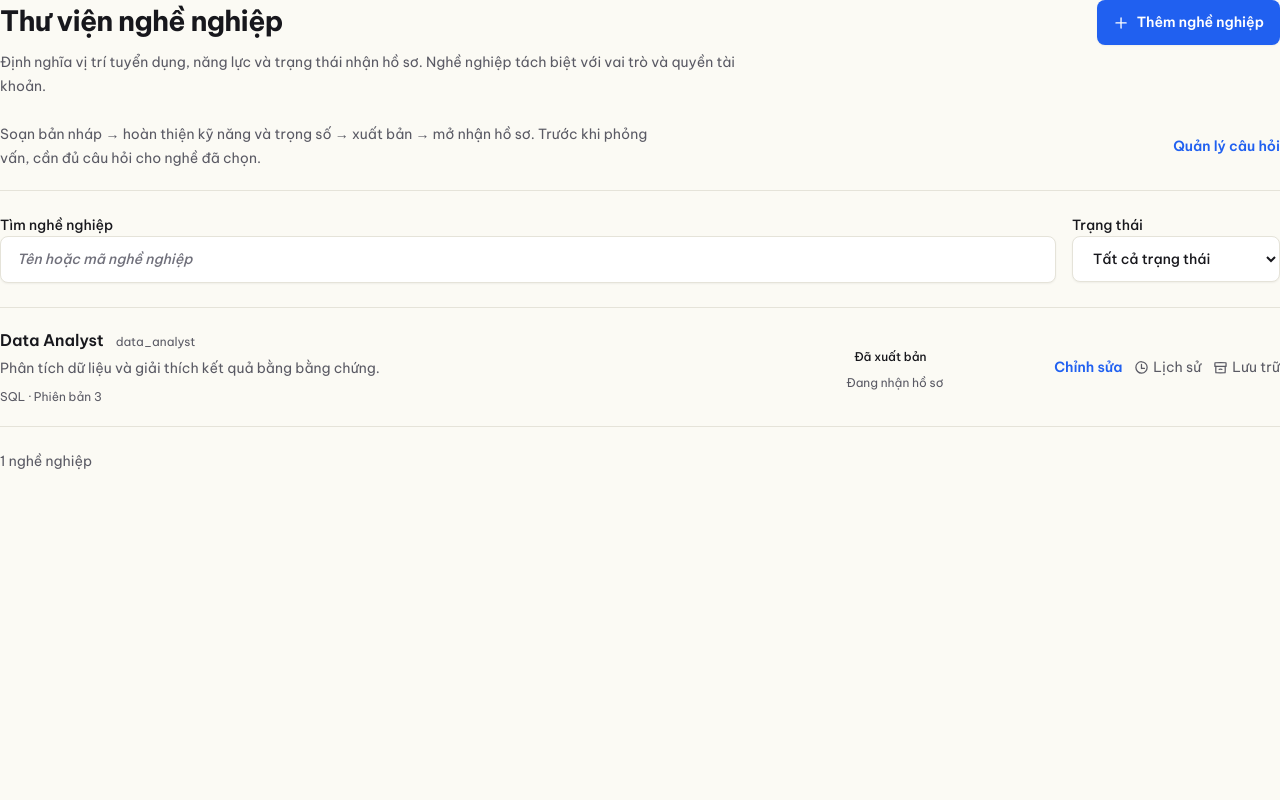
creates an extensible career as a draft without changing account roles
Expected: the heading "Data Analyst" is shown, [0, 328, 104, 352]
Click the button "Thêm nghề nghiệp". click: click(1188, 22)
box: [1097, 0, 1279, 45]
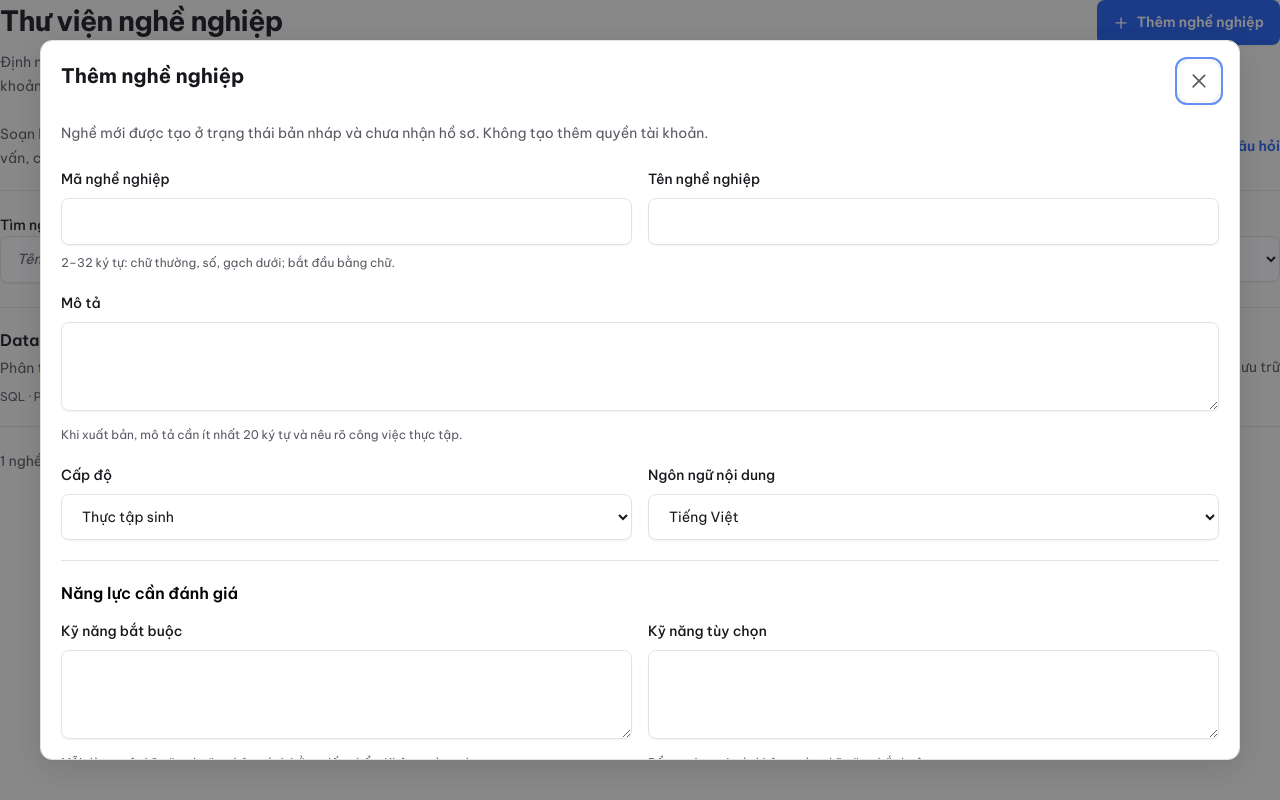
Type "mobile" into the field labelled "Mã nghề nghiệp". click: (346, 222)
box: [61, 198, 632, 245]
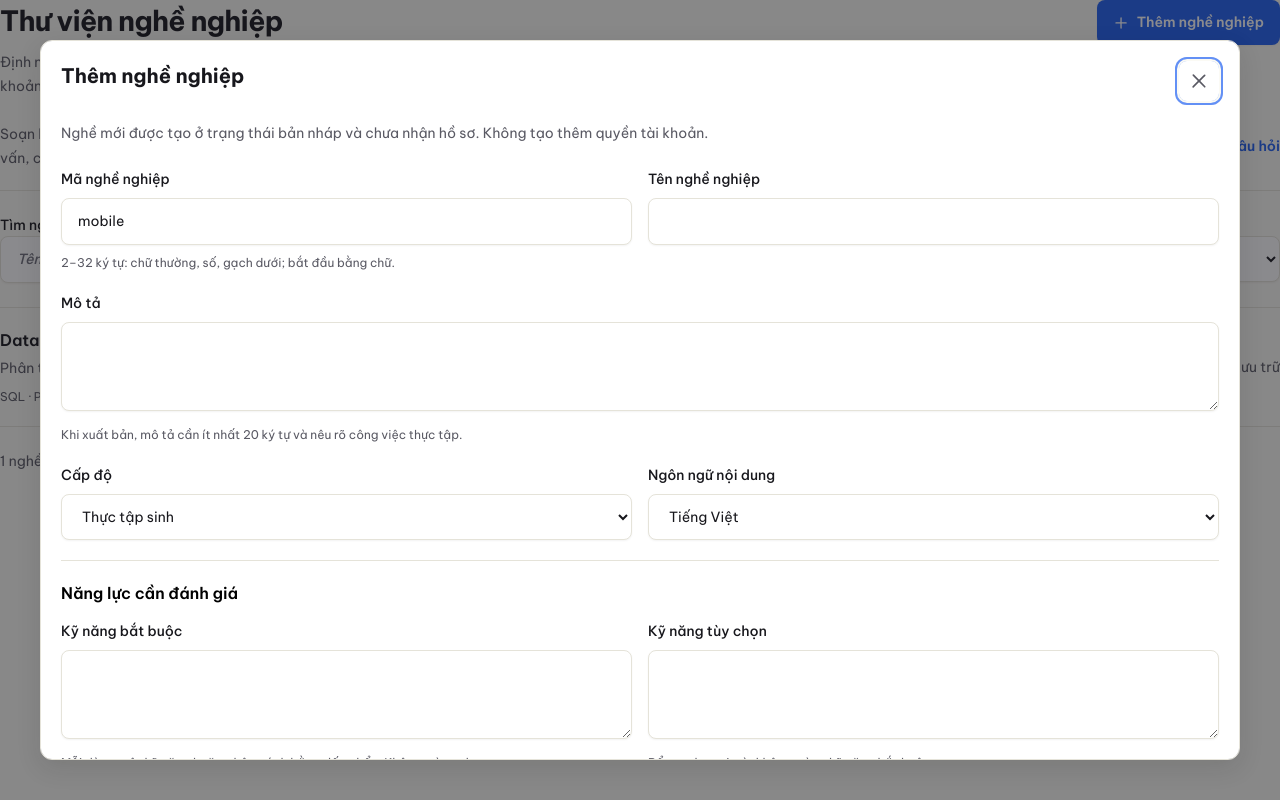
Type "Mobile Developer" into the field labelled "Tên nghề nghiệp". click: (934, 222)
box: [648, 198, 1219, 245]
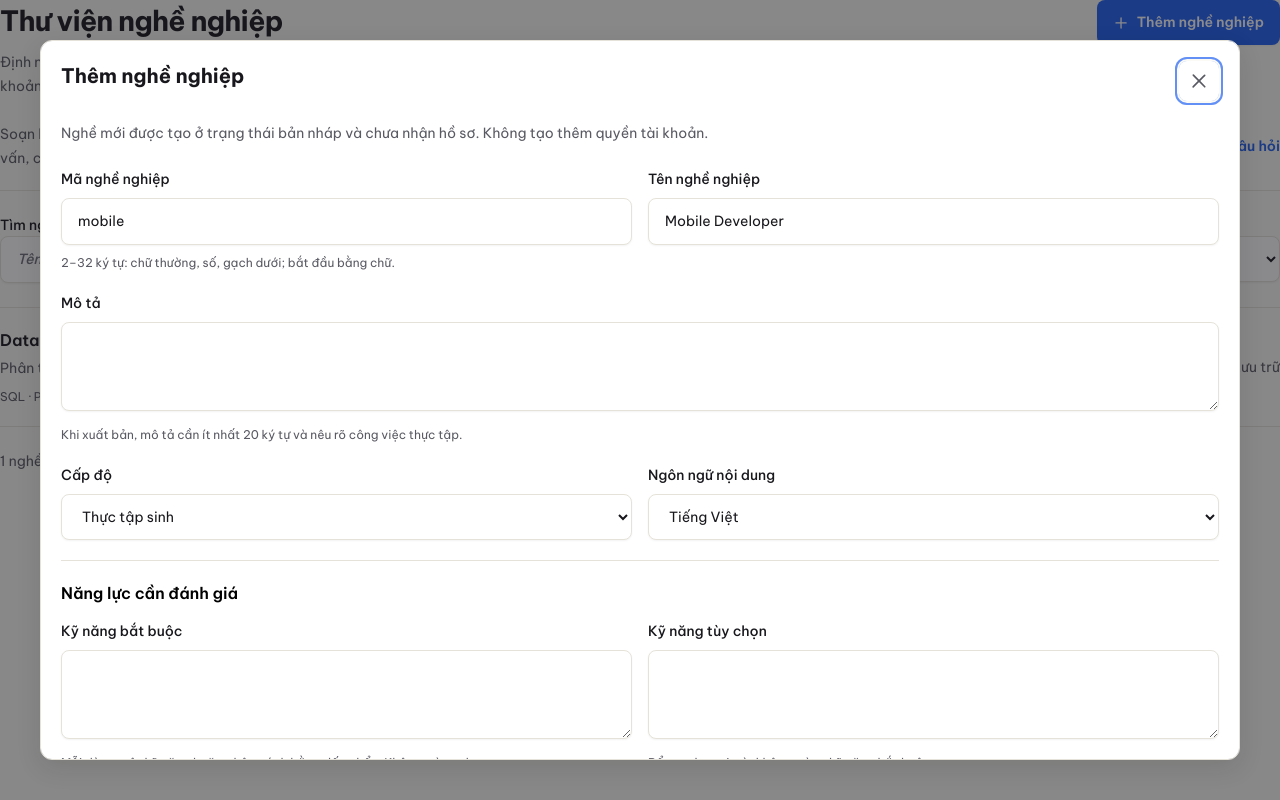
Type "Xây dựng ứng dụng di động nhỏ và kiểm thử." into the text box labelled "Mô tả". click: (640, 366)
box: [61, 322, 1219, 411]
(page scrolled)
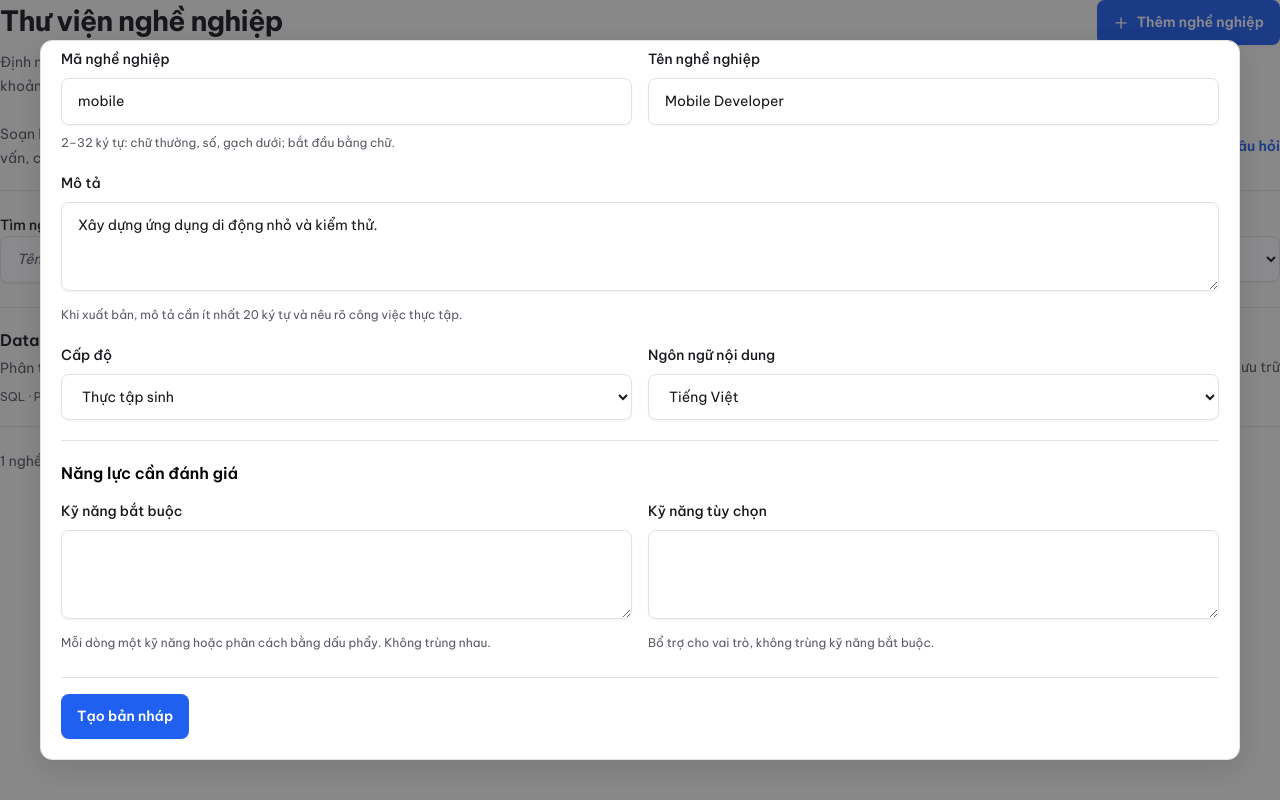
Click the button "Tạo bản nháp". click: click(125, 716)
box: [61, 694, 189, 739]
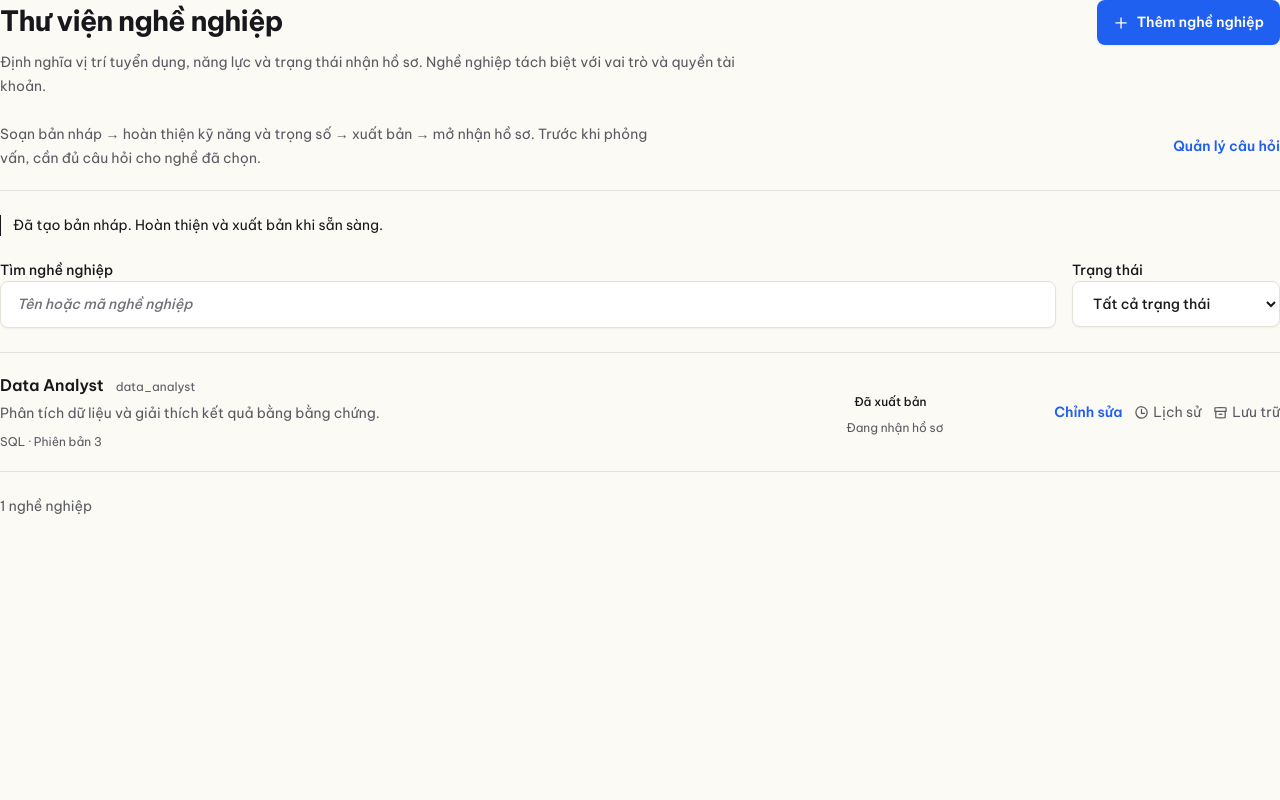
Expected: the message shows "Đã tạo bản nháp", [13, 216, 383, 234]
Expected: the dialog is gone
